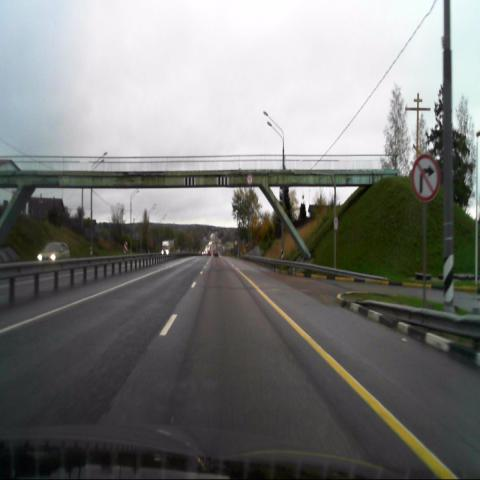3_18: (412, 154, 438, 200)
